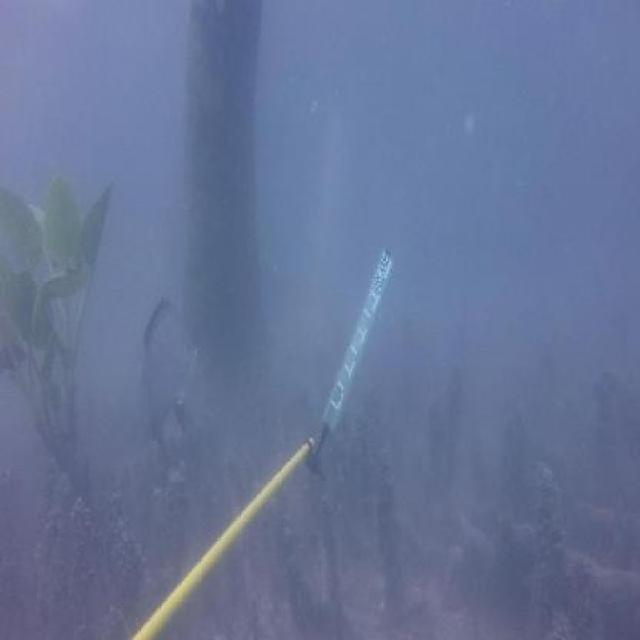acanthopagrus_palmaris: (137, 286, 211, 452)
